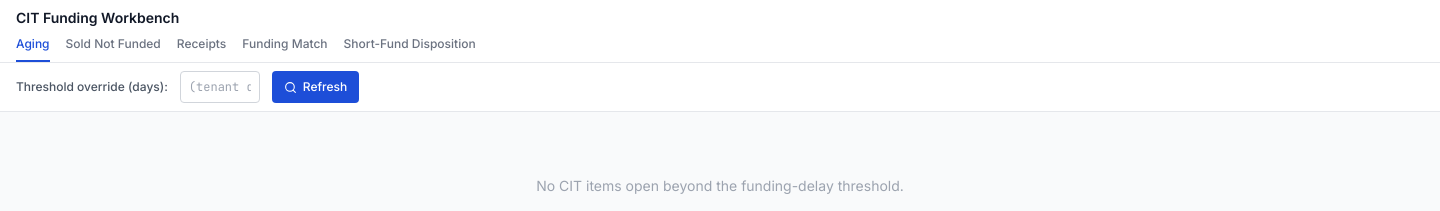
CitFundingWorkbench — Sold Not Funded tab › renders real sold-not-funded rows (not a locally recomputed figure)
This screenshot has width=1440, height=211.
Click the button with test id "cit-tab-snf": (113, 49) top-left (66, 36), bottom-right (161, 62)
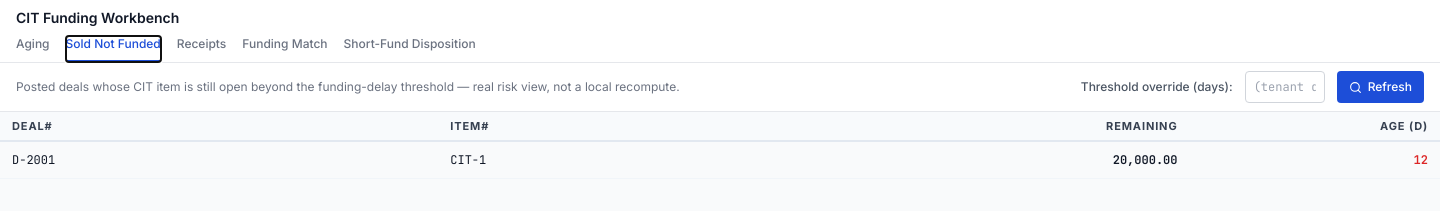
expect the row with test id "cit-snf-row-CIT-1" is shown: met, box top-left (0, 141), bottom-right (1439, 178)
expect the text "D-2001" is shown: met, box top-left (0, 141), bottom-right (438, 178)
